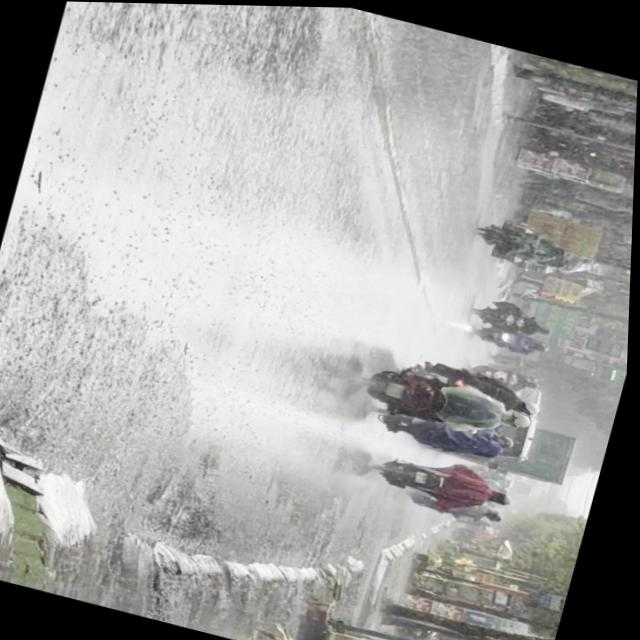helmet: (508, 406, 537, 427)
licenseplate: (357, 351, 547, 443)
nohelmet: (389, 377, 408, 397)
